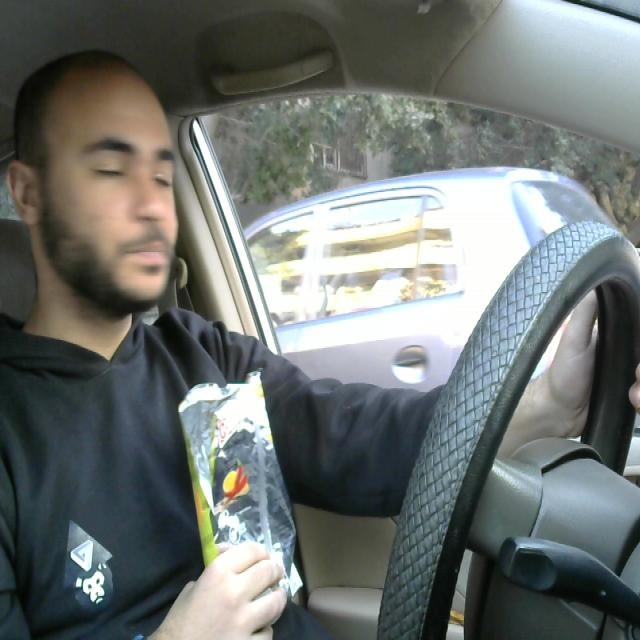eating: (177, 366, 306, 624)
